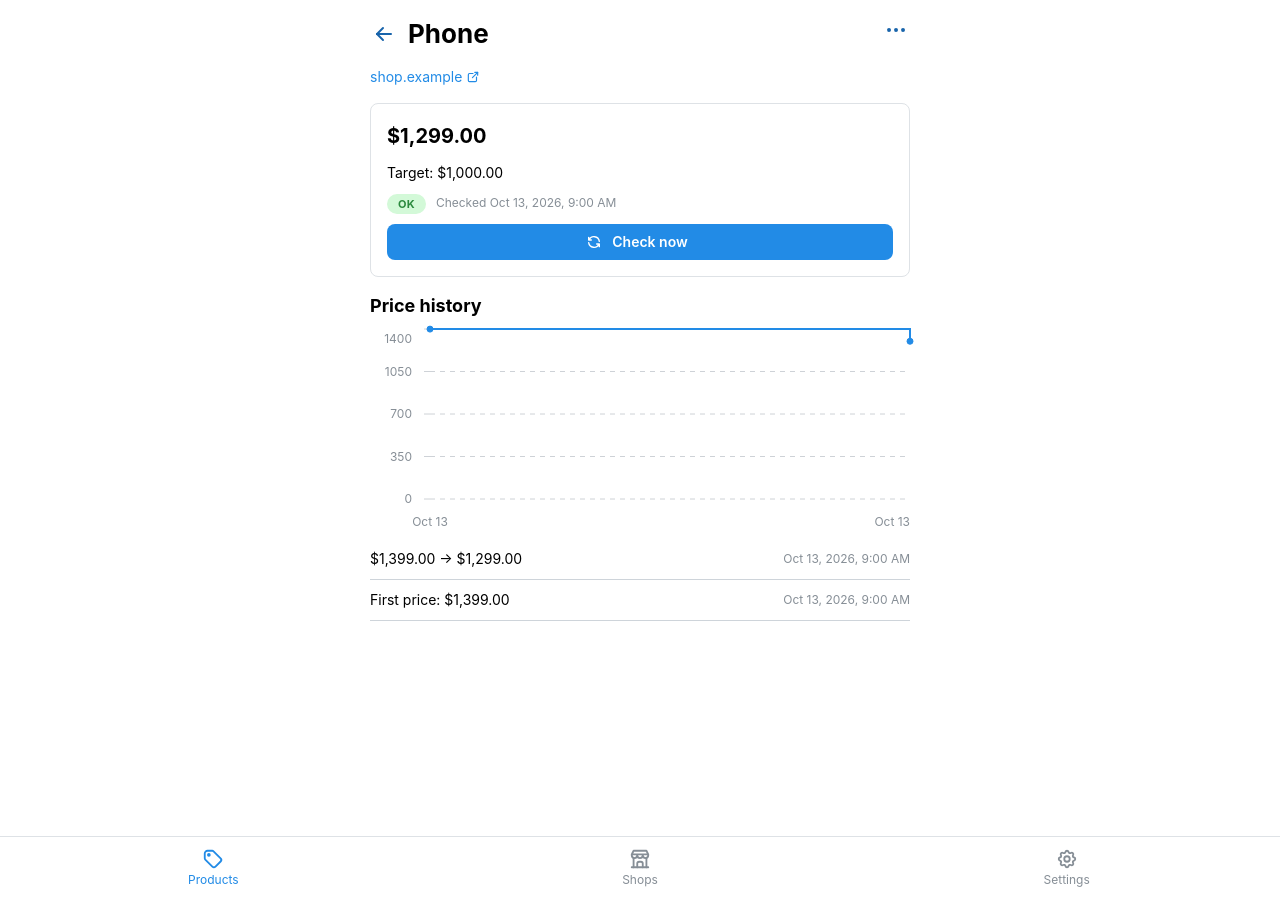
it: ProductDetailsPage › deletes after confirmation and returns to the list
Click the button named "Product actions". click: (896, 30)
box: [882, 16, 910, 44]
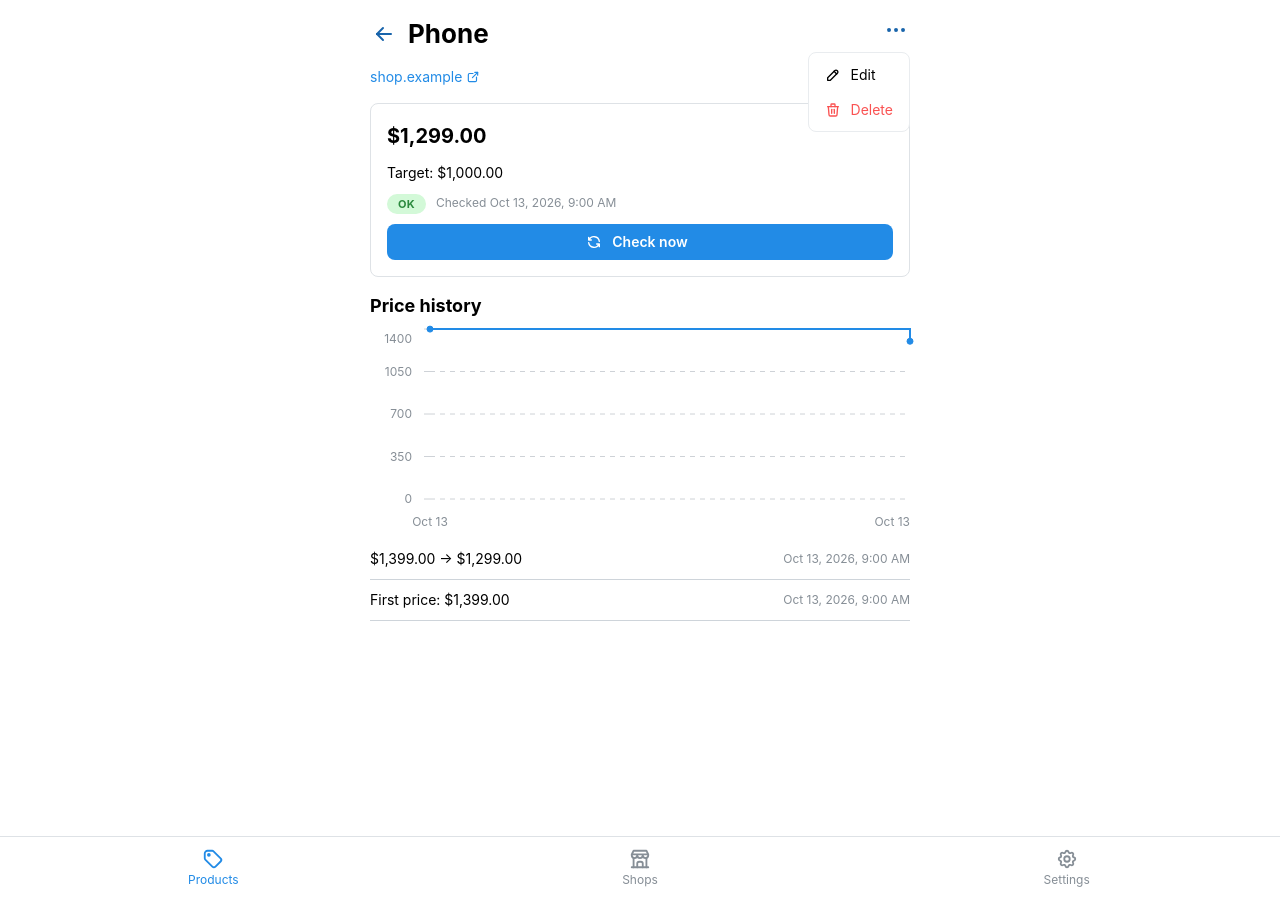
Click the menu item "Delete". click: (859, 110)
box: [812, 92, 905, 127]
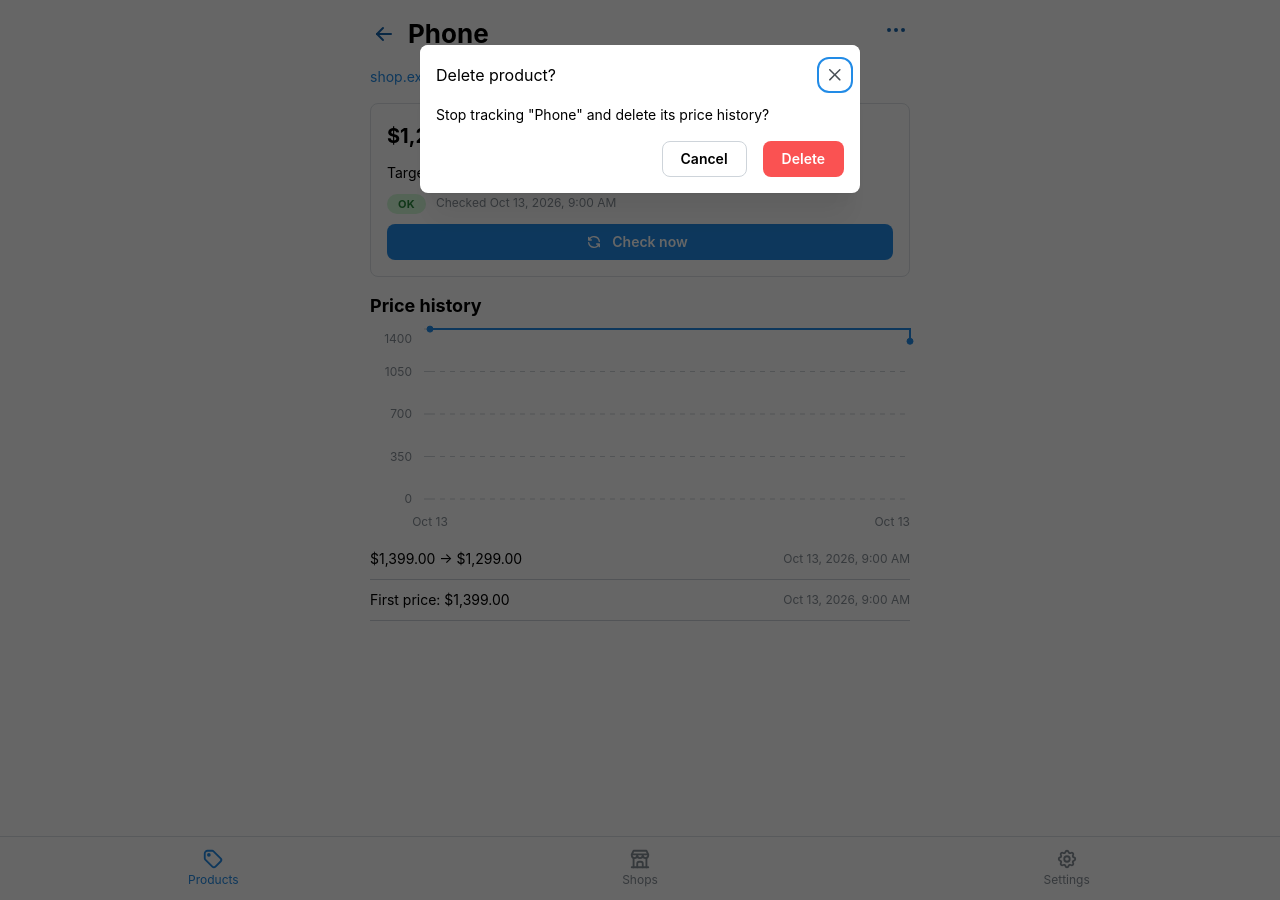
Click the button "Delete". click: (803, 159)
box: [763, 141, 844, 177]
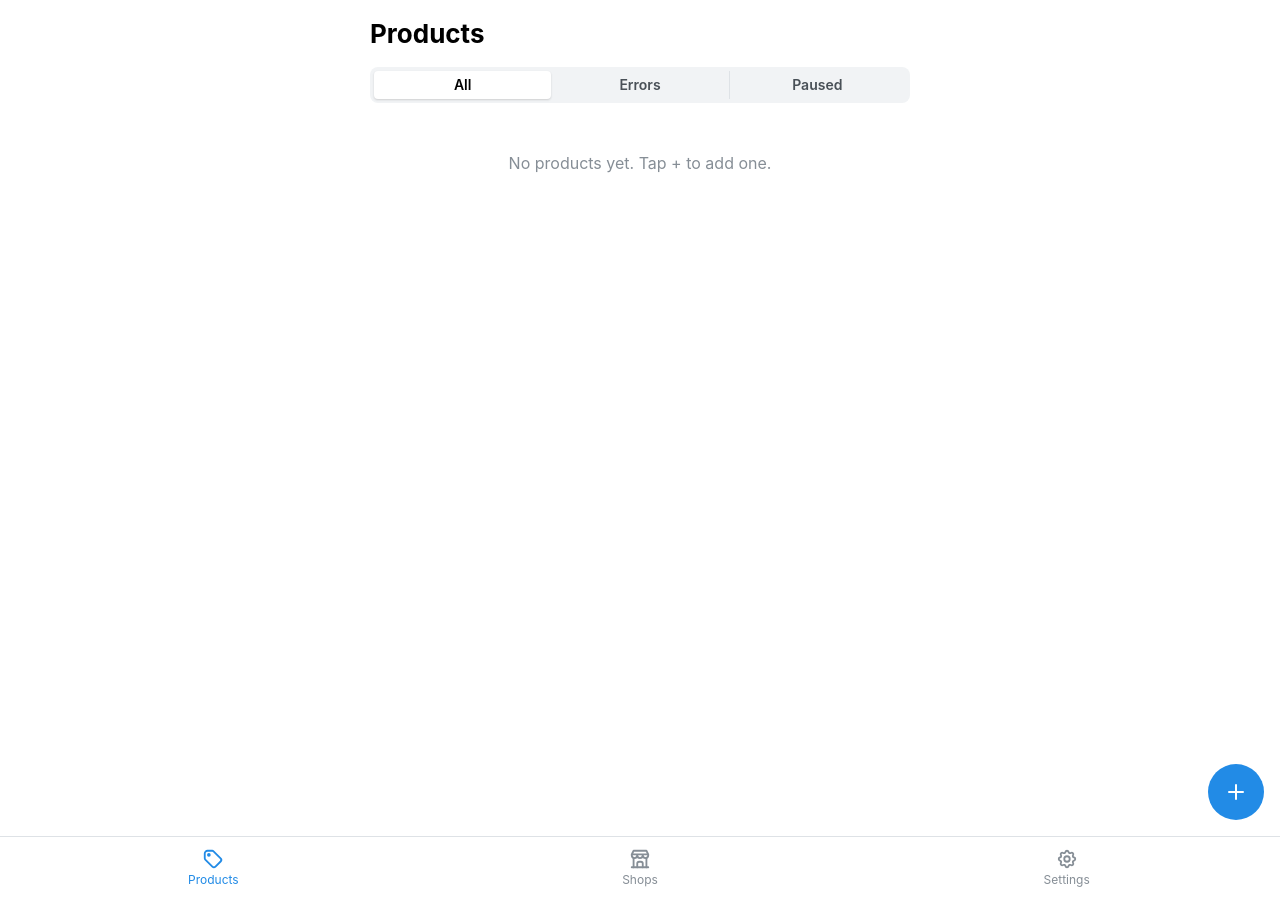
Now the text "No products yet. Tap + to add one." is shown, box [509, 153, 771, 173]
